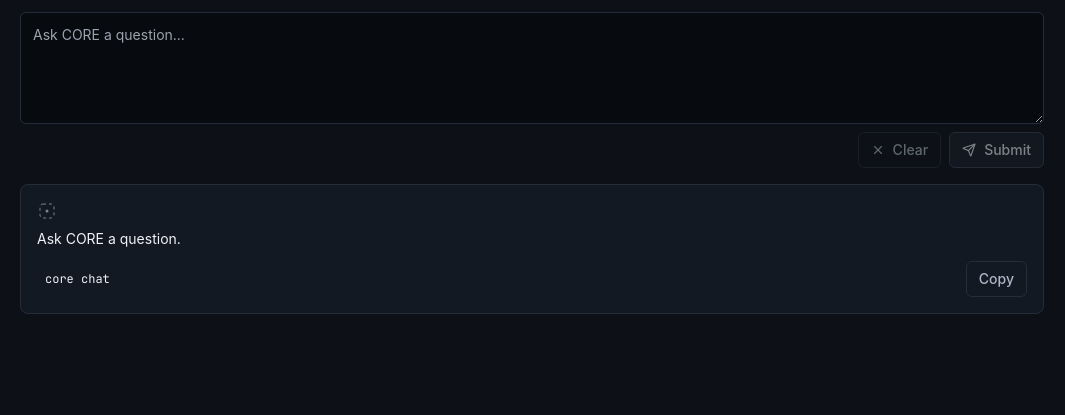
Test: route conformance: Chat (interaction-driven states) › error: surfaces what failed, mutation status, reproducer, retry safety
Type "hello" into the text box with placeholder "Ask CORE a question...". click: coordinates (532, 68)
box: [20,12,1044,124]
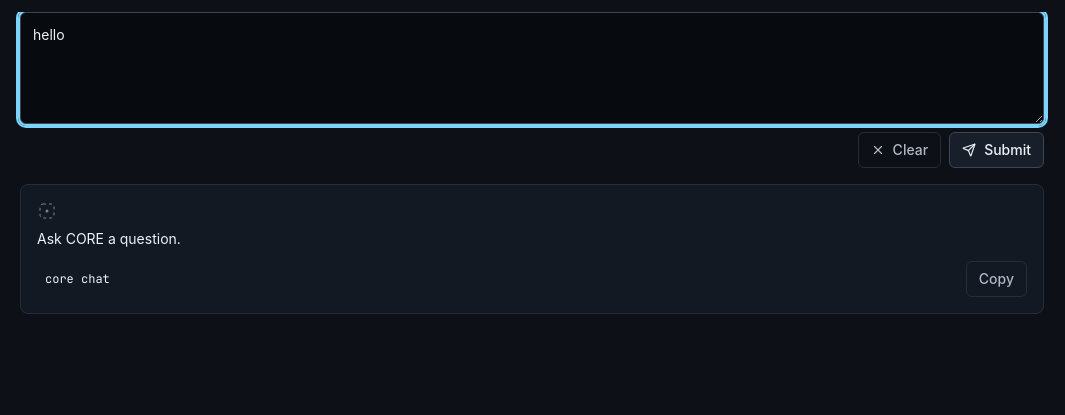
Click the button "Submit". click: coordinates (997, 150)
box: [949,132,1044,168]
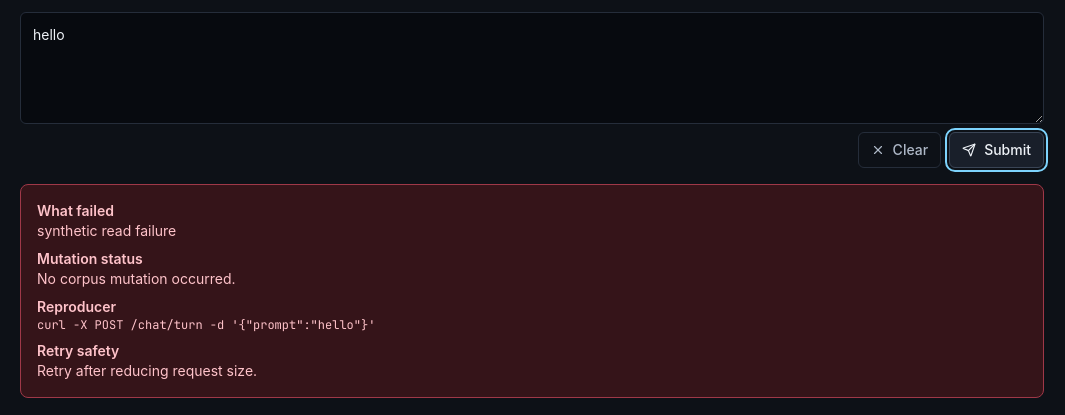
expect the text "What failed" is shown: met, box [37,202,114,219]
expect the text "Mutation status" is shown: met, box [37,250,143,267]
expect the text "Reproducer" is shown: met, box [37,298,116,315]
